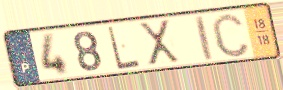4: (38, 31, 72, 77)
8: (72, 30, 105, 72)
C: (209, 11, 252, 60)
I: (192, 13, 215, 62)
L: (105, 24, 142, 71)
X: (136, 18, 182, 68)
